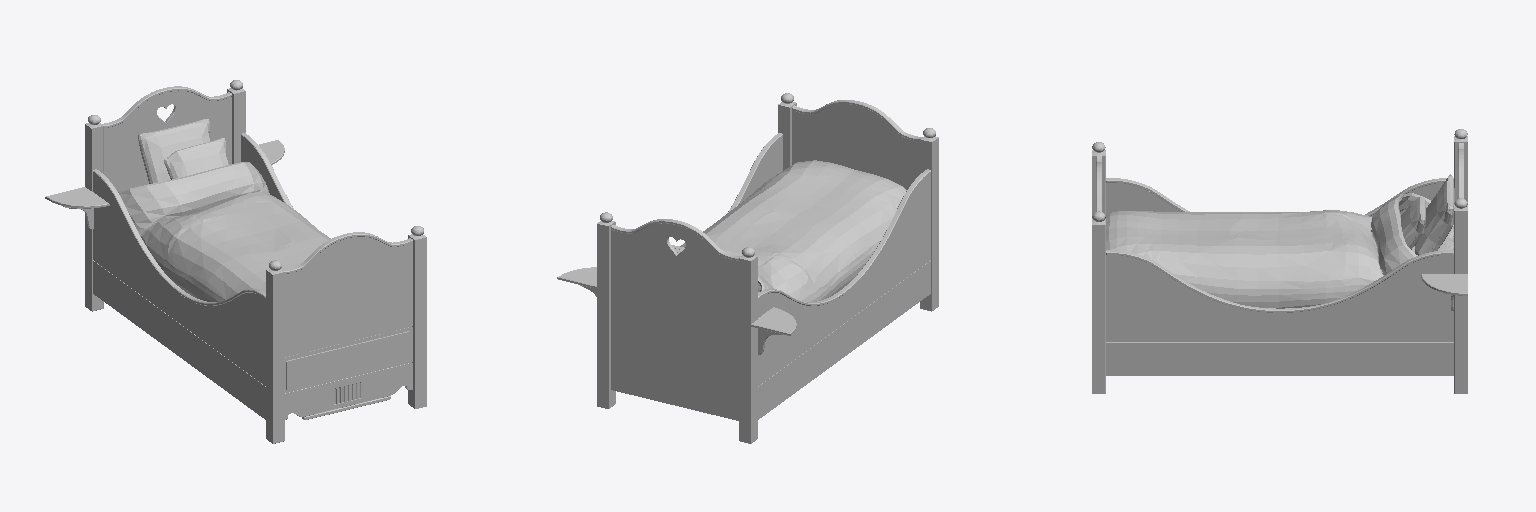
File: bed1.obj
3 views of the same model, side by side, from view 1: azimuth 30°, elevation 25°; view 2: azimuth 150°, elevation 25°; view 3: azimuth 270°, elevation 25° (orthographic).
Visible parts, largest first — view 1: FBXASC048color3 Box07, FBXASC048color2 FBXASC048color2 Rectangle26, FBXASC048color2 FBXASC048color2 Rectangle09, FBXASC048color2 FBXASC048color2 Rectangle08, FBXASC048color2 FBXASC048color2 Rectangle24, FBXASC048color2 FBXASC048color2 Rectangle07, FBXASC048color2 FBXASC048color2 Rectangle27, FBXASC048color1 Box14, FBXASC048color1 Box15, FBXASC048color3 Box09, FBXASC048color1 Box05, Box11 FBXASC048color3 (+6 smaller); view 2: FBXASC048color2 FBXASC048color2 Rectangle24, FBXASC048color3 Box07, FBXASC048color2 FBXASC048color2 Rectangle09, FBXASC048color2 FBXASC048color2 Rectangle26, FBXASC048color2 FBXASC048color2 Rectangle08, FBXASC048color1 Box05, FBXASC048color1 Box13, FBXASC048color1 Box14, FBXASC048color1 Shape06, FBXASC048color2 Rectangle28 FBXASC048color2, Line01 FBXASC048color1, FBXASC048color1 Box15 (+4 smaller); view 3: FBXASC048color3 Box07, FBXASC048color2 Rectangle28 FBXASC048color2, FBXASC048color2 FBXASC048color2 Rectangle29, FBXASC048color1 Box15, FBXASC048color1 Box13, FBXASC048color2 FBXASC048color2 Rectangle09, FBXASC048color3 Box09, FBXASC048color1 Shape07, Box11 FBXASC048color3, FBXASC048color1 Line04, FBXASC048color1 Shape06, FBXASC048color1 Box14.
Part boxes in pixels (x1,y1,x2,y2): FBXASC048color3 Box07: (118,162,330,301); FBXASC048color2 FBXASC048color2 Rectangle26: (285,237,412,356); FBXASC048color2 FBXASC048color2 Rectangle09: (93,173,265,385); FBXASC048color2 FBXASC048color2 Rectangle08: (93,260,265,419); FBXASC048color2 FBXASC048color2 Rectangle24: (104,91,231,191); FBXASC048color2 FBXASC048color2 Rectangle07: (285,327,412,392); FBXASC048color2 FBXASC048color2 Rectangle27: (285,363,412,419); FBXASC048color1 Box14: (266,269,284,443); FBXASC048color1 Box15: (408,234,426,408); FBXASC048color3 Box09: (138,119,209,183); FBXASC048color1 Box05: (85,123,103,311); Box11 FBXASC048color3: (164,138,228,179); FBXASC048color2 FBXASC048color2 Rectangle24: (611,223,738,420); FBXASC048color3 Box07: (680,160,906,301); FBXASC048color2 FBXASC048color2 Rectangle09: (758,173,930,385); FBXASC048color2 FBXASC048color2 Rectangle26: (792,104,919,189); FBXASC048color2 FBXASC048color2 Rectangle08: (758,260,930,419); FBXASC048color1 Box05: (739,255,757,443); FBXASC048color1 Box13: (597,221,615,408); FBXASC048color1 Box14: (920,136,938,311); FBXASC048color1 Shape06: (758,169,930,305); FBXASC048color2 Rectangle28 FBXASC048color2: (740,137,782,203); Line01 FBXASC048color1: (750,307,796,335); FBXASC048color1 Box15: (778,102,796,170); FBXASC048color3 Box07: (1105,193,1430,308); FBXASC048color2 Rectangle28 FBXASC048color2: (1106,255,1453,341); FBXASC048color2 FBXASC048color2 Rectangle29: (1106,342,1453,375); FBXASC048color1 Box15: (1092,219,1105,393); FBXASC048color1 Box13: (1454,205,1467,393); FBXASC048color2 FBXASC048color2 Rectangle09: (1106,183,1443,217); FBXASC048color3 Box09: (1415,174,1454,255); FBXASC048color1 Shape07: (1106,250,1453,312); Box11 FBXASC048color3: (1401,196,1425,249); FBXASC048color1 Line04: (1421,274,1467,295); FBXASC048color1 Shape06: (1106,178,1453,216); FBXASC048color1 Box14: (1092,150,1105,218).
Bounding box in the file's own units: 136 × 112 × 190.